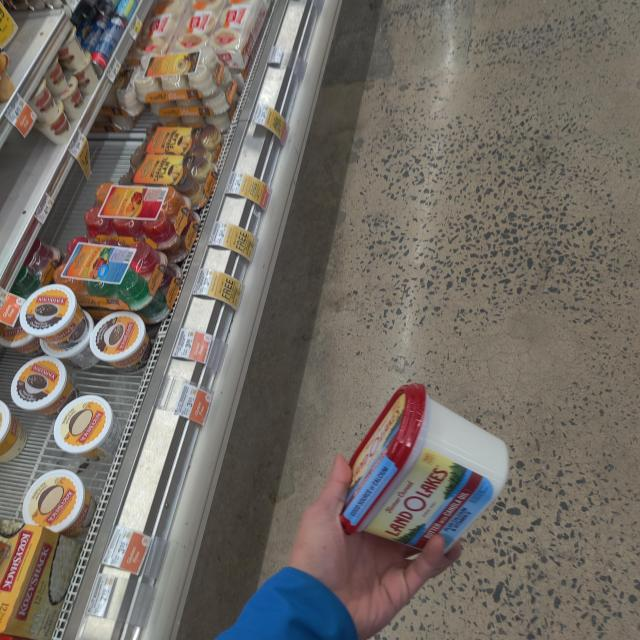Butter: (323, 392, 531, 552)
